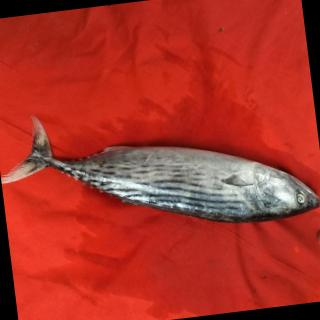Ikan: (4, 88, 320, 267)
